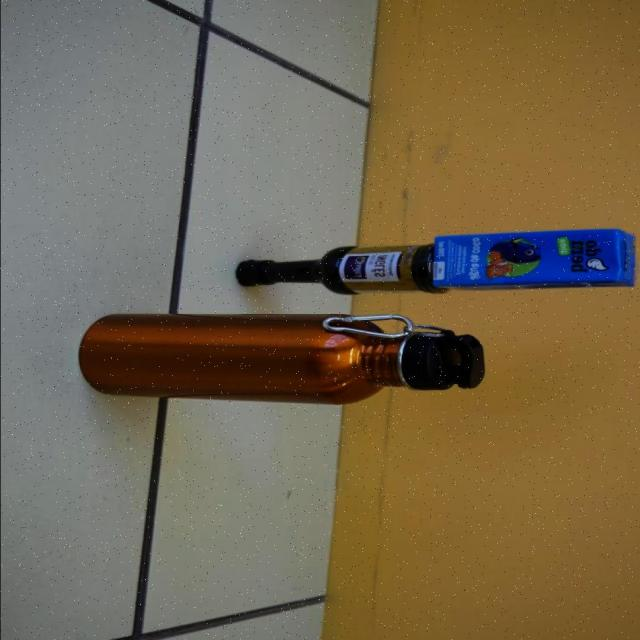CoconutWater: (430, 229, 637, 290)
EnglishSauce: (235, 244, 448, 295)
